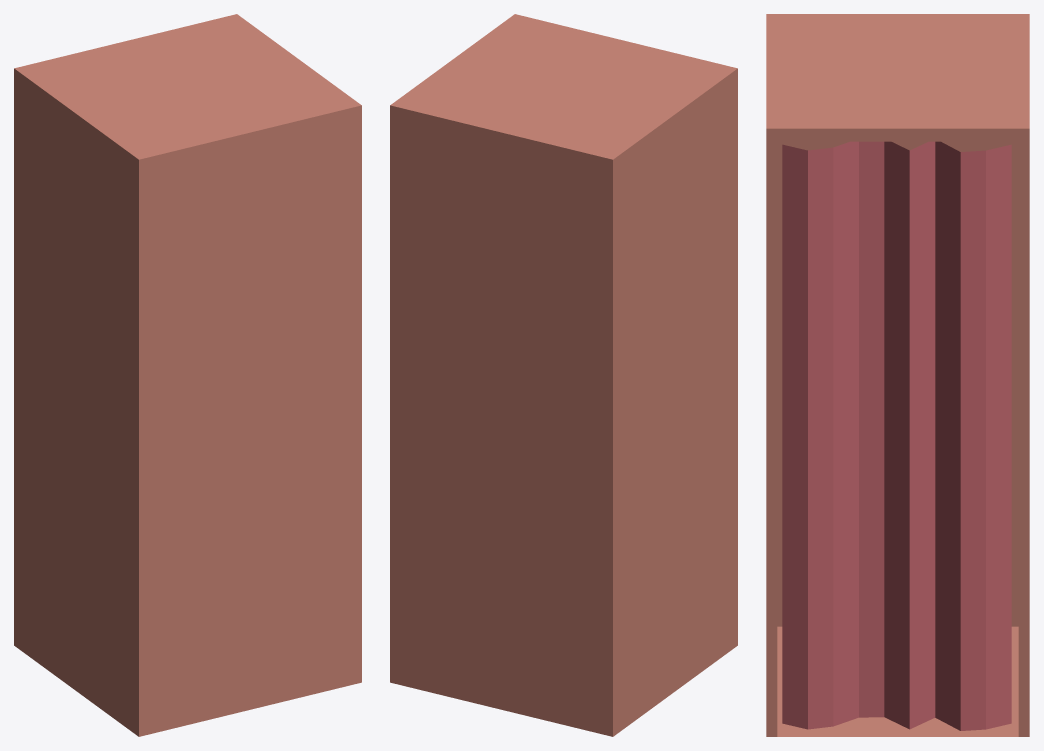
File: bathCabin.fbx
The picture shows the model from 3 angles, left to right: view 1: azimuth 30°, elevation 25°; view 2: azimuth 150°, elevation 25°; view 3: azimuth 270°, elevation 25°; orthographic projection. The views are drawn at different scales.
Parts seen in each view (by area): view 1: Cube.004; view 2: Cube.004; view 3: Cube.004.
Boxes of the visible parts, x1=… form: Cube.004: x1=14, y1=14, x2=361, y2=736; Cube.004: x1=390, y1=14, x2=737, y2=736; Cube.004: x1=766, y1=14, x2=1029, y2=736.
Size of the model in its own units: 93.72 by 239 by 103.
